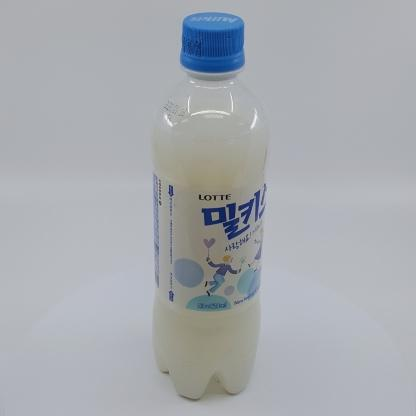-----500ML: (150, 12, 270, 399)
